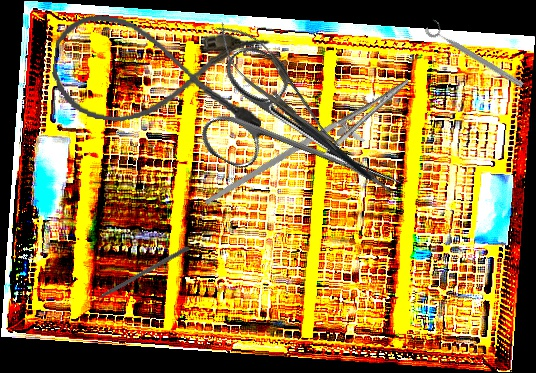Cannula: (47, 10, 272, 139)
Chopper: (242, 52, 375, 212)
Fixation Ring: (423, 17, 529, 91)
Iris Scissors: (187, 39, 427, 238)
Needle Holder: (203, 56, 422, 242), (203, 11, 354, 164)
Pusher: (83, 244, 190, 308)
